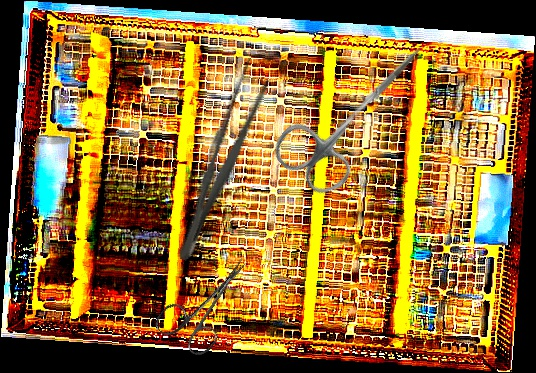Dressing Forceps: (167, 55, 277, 267)
Iris Scissors: (266, 18, 448, 205), (151, 239, 268, 364)
